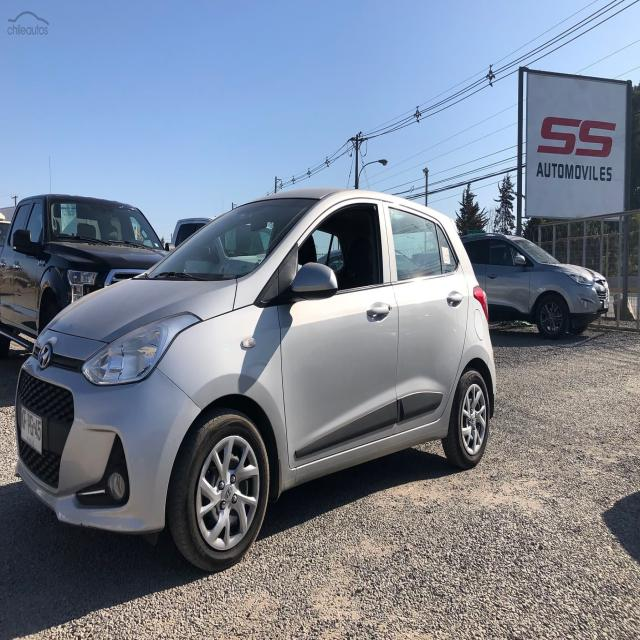patente: (19, 404, 43, 456)
